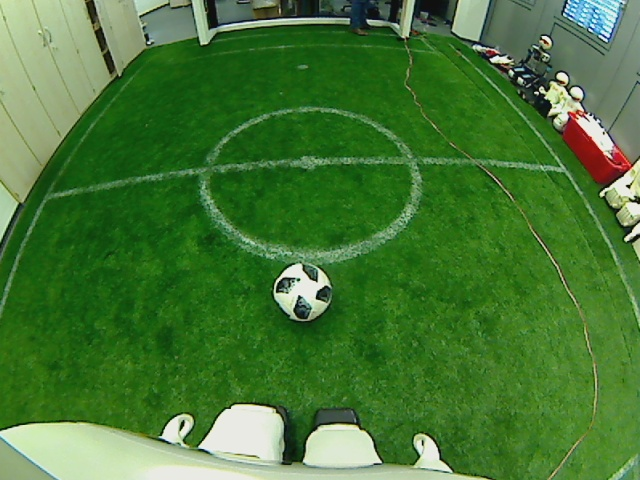ball: (273, 259, 335, 324)
